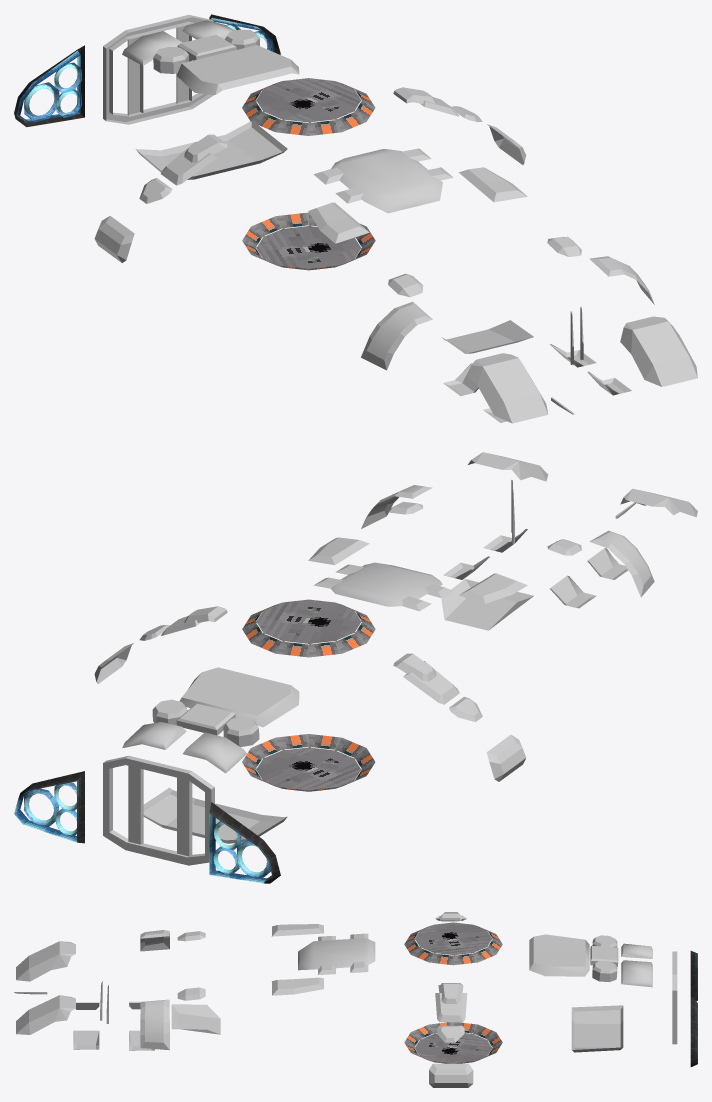
Rendered from Goblins.obj.
The picture shows the model from 3 angles, top to bottom: view 1: azimuth 30°, elevation 25°; view 2: azimuth 150°, elevation 25°; view 3: azimuth 270°, elevation 25°; orthographic projection. The views are drawn at different scales.
Parts seen in each view (by area): view 1: FrontUV, TurretUV, Burner; view 2: FrontUV, TurretUV, Burner; view 3: FrontUV, TurretUV, Burner.
Part boxes in pixels (box(x1,y1,x2,y2)): FrontUV: box(94, 15, 697, 423); TurretUV: box(242, 78, 375, 270); Burner: box(14, 14, 280, 127); FrontUV: box(94, 452, 697, 865); TurretUV: box(242, 599, 375, 791); Burner: box(14, 771, 280, 883); FrontUV: box(14, 912, 677, 1087); TurretUV: box(404, 922, 502, 1063); Burner: box(690, 951, 697, 1066).
Bounding box in the file's own units: 18.44 × 6.37 × 36.13.
